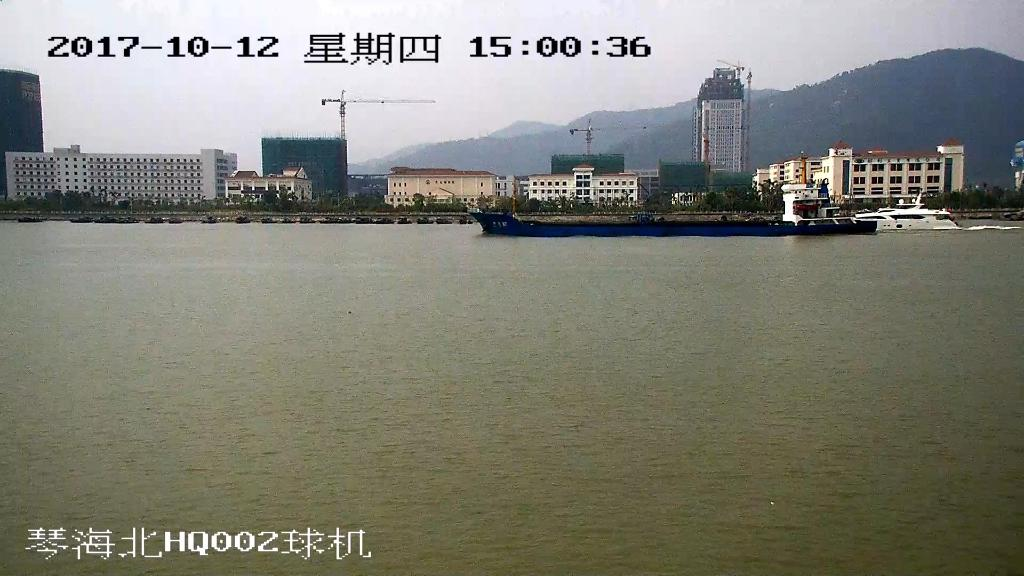PassengerShip: (849, 192, 963, 234)
